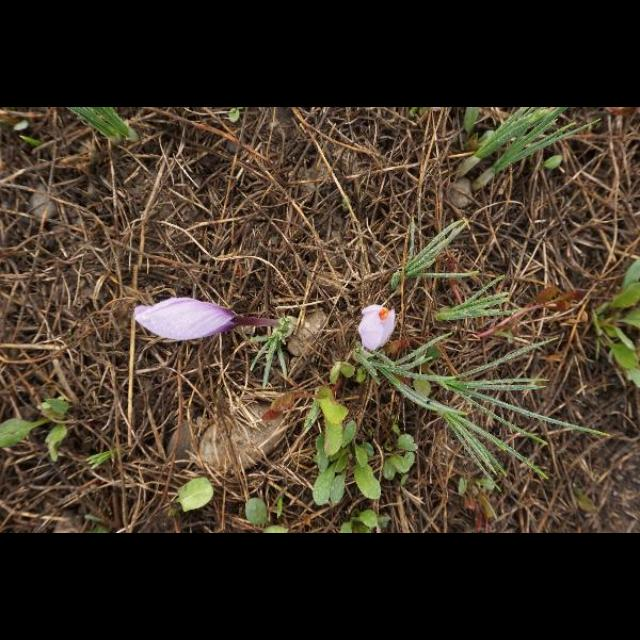flower: (135, 298, 249, 342), (358, 306, 396, 350)
